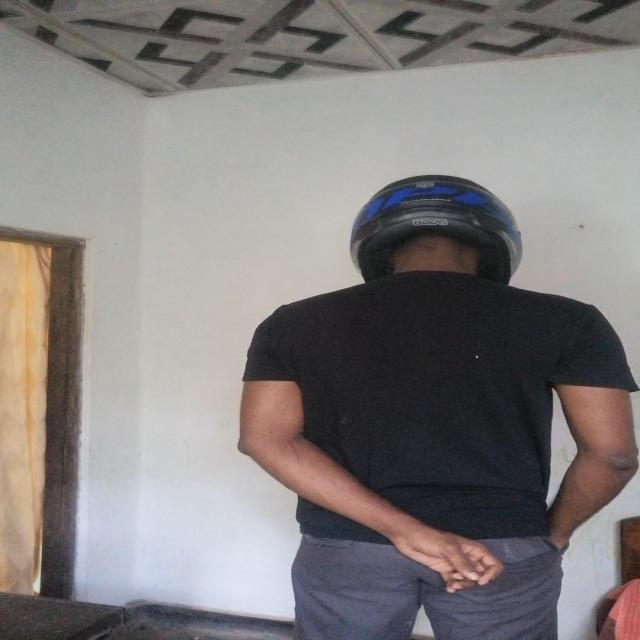Helmet_Wearer: (324, 154, 543, 309)
Person: (231, 174, 640, 634)
